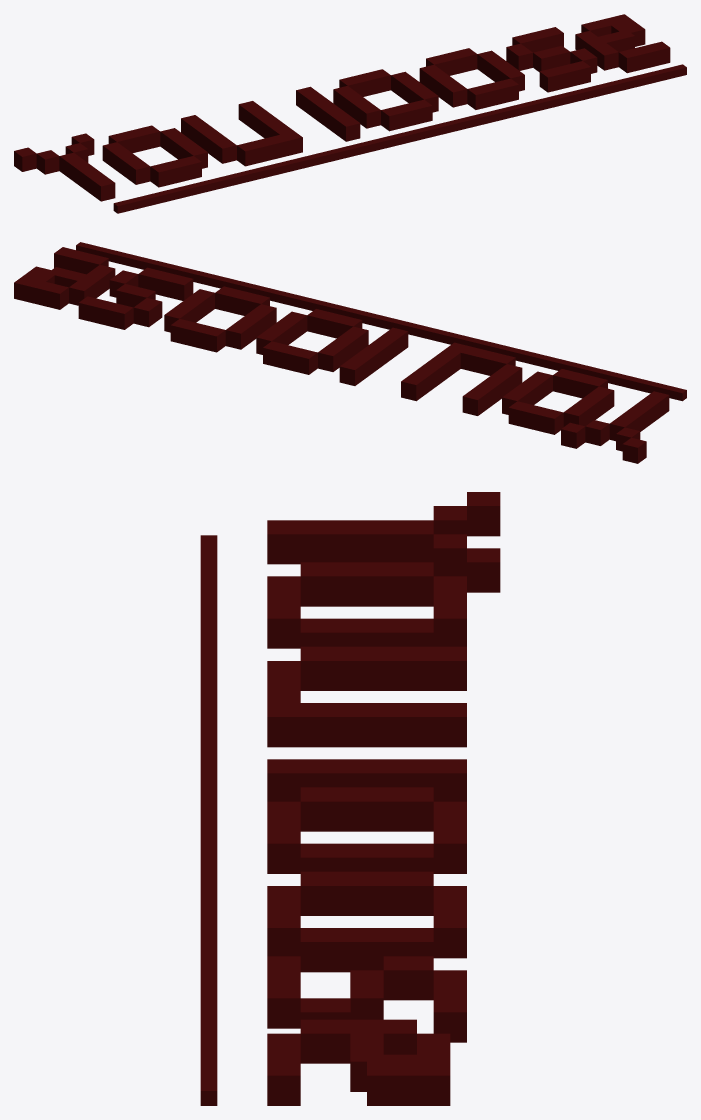
File: LOOSE.obj
The picture shows the model from 3 angles, top to bottom: view 1: azimuth 30°, elevation 25°; view 2: azimuth 150°, elevation 25°; view 3: azimuth 270°, elevation 25°; orthographic projection. The views are drawn at different scales.
Parts seen in each view (by area): view 1: LOOSE; view 2: LOOSE; view 3: LOOSE.
Boxes of the visible parts, box(x1,y1,x2,y2) form: LOOSE: box(14, 14, 686, 213); LOOSE: box(14, 242, 686, 463); LOOSE: box(200, 492, 500, 1105).
Size of the model in its own units: 83 by 2 by 18.
1 material, 1 textured.
